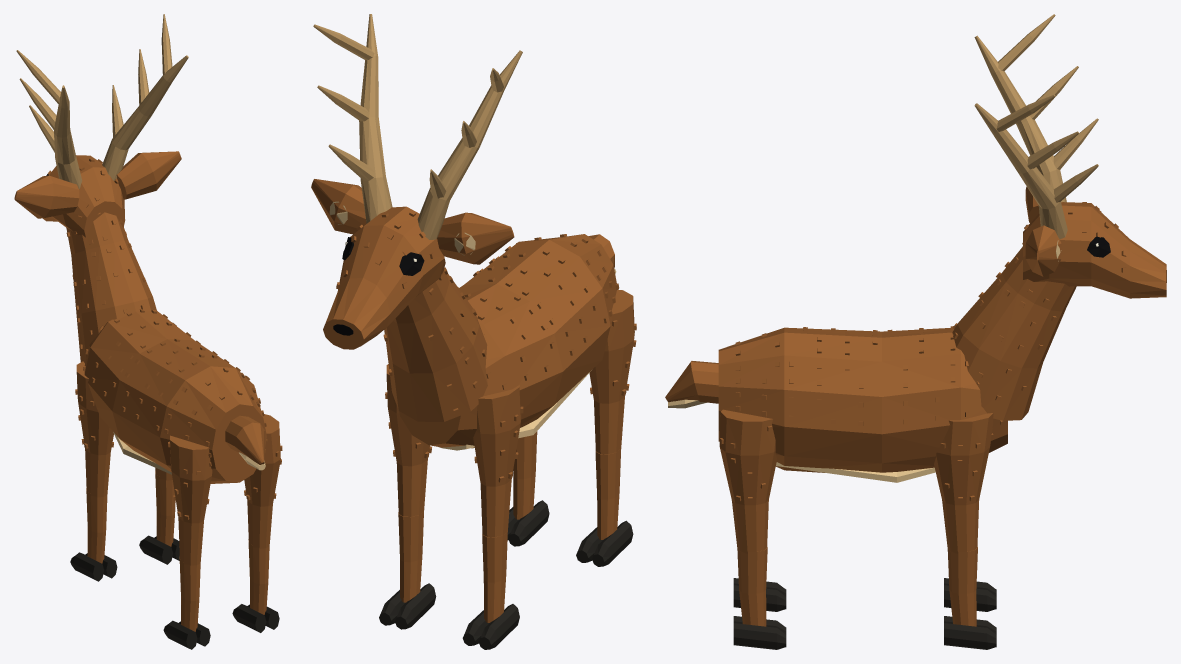
The model's file is Deer.fbx.
3 views of the same model, side by side, from view 1: azimuth 30°, elevation 25°; view 2: azimuth 150°, elevation 25°; view 3: azimuth 270°, elevation 25° (orthographic). The views are drawn at different scales.
Parts seen in each view (by area): view 1: Import3D_Core, Import3D_Head, Import3D_Neck, Import3D_LegBL, Import3D_LegBR, Import3D_LegFL, Import3D_KneeFL, Import3D_KneeBL, Import3D_KneeBR, Import3D_EarR, Import3D_EarL, Import3D_KneeFR (+1 smaller); view 2: Import3D_Core, Import3D_Head, Import3D_Neck, Import3D_LegFL, Import3D_LegBL, Import3D_KneeFL, Import3D_KneeFR, Import3D_KneeBL, Import3D_LegFR, Import3D_EarL, Import3D_KneeBR, Import3D_EarR; view 3: Import3D_Core, Import3D_Head, Import3D_Neck, Import3D_LegBR, Import3D_LegFR, Import3D_KneeBR, Import3D_KneeFR, Import3D_Tail, Import3D_EarR, Import3D_KneeBL, Import3D_KneeFL.
Part boxes in pixels (<box>): Import3D_Core: <box>83,309,267,483</box>; Import3D_Head: <box>16,14,188,237</box>; Import3D_Neck: <box>66,212,156,362</box>; Import3D_LegBL: <box>168,435,212,565</box>; Import3D_LegBR: <box>244,414,282,548</box>; Import3D_LegFL: <box>75,361,113,497</box>; Import3D_KneeFL: <box>70,488,117,581</box>; Import3D_KneeBL: <box>163,557,210,649</box>; Import3D_KneeBR: <box>232,539,279,632</box>; Import3D_EarR: <box>116,151,181,199</box>; Import3D_EarL: <box>14,175,79,218</box>; Import3D_KneeFR: <box>139,471,179,564</box>; Import3D_Core: <box>399,234,619,450</box>; Import3D_Head: <box>313,14,522,349</box>; Import3D_Neck: <box>383,267,487,421</box>; Import3D_LegFL: <box>473,385,523,537</box>; Import3D_LegBL: <box>589,290,636,454</box>; Import3D_KneeFL: <box>462,532,519,649</box>; Import3D_KneeFR: <box>379,511,436,629</box>; Import3D_KneeBL: <box>576,449,633,566</box>; Import3D_LegFR: <box>385,364,431,516</box>; Import3D_EarL: <box>437,212,514,264</box>; Import3D_KneeBR: <box>507,431,549,546</box>; Import3D_EarR: <box>311,179,366,234</box>; Import3D_Core: <box>718,326,1007,482</box>; Import3D_Head: <box>974,14,1166,298</box>; Import3D_Neck: <box>952,243,1076,420</box>; Import3D_LegBR: <box>719,409,777,553</box>; Import3D_LegFR: <box>934,413,993,553</box>; Import3D_KneeBR: <box>733,547,786,649</box>; Import3D_KneeFR: <box>944,547,996,649</box>; Import3D_Tail: <box>665,361,718,408</box>; Import3D_EarR: <box>1025,225,1061,276</box>; Import3D_KneeBL: <box>733,578,786,611</box>; Import3D_KneeFL: <box>944,578,996,611</box>.
Bounding box in the file's own units: 116 × 337 × 267.
Materials: 1 (1 with a texture image).
